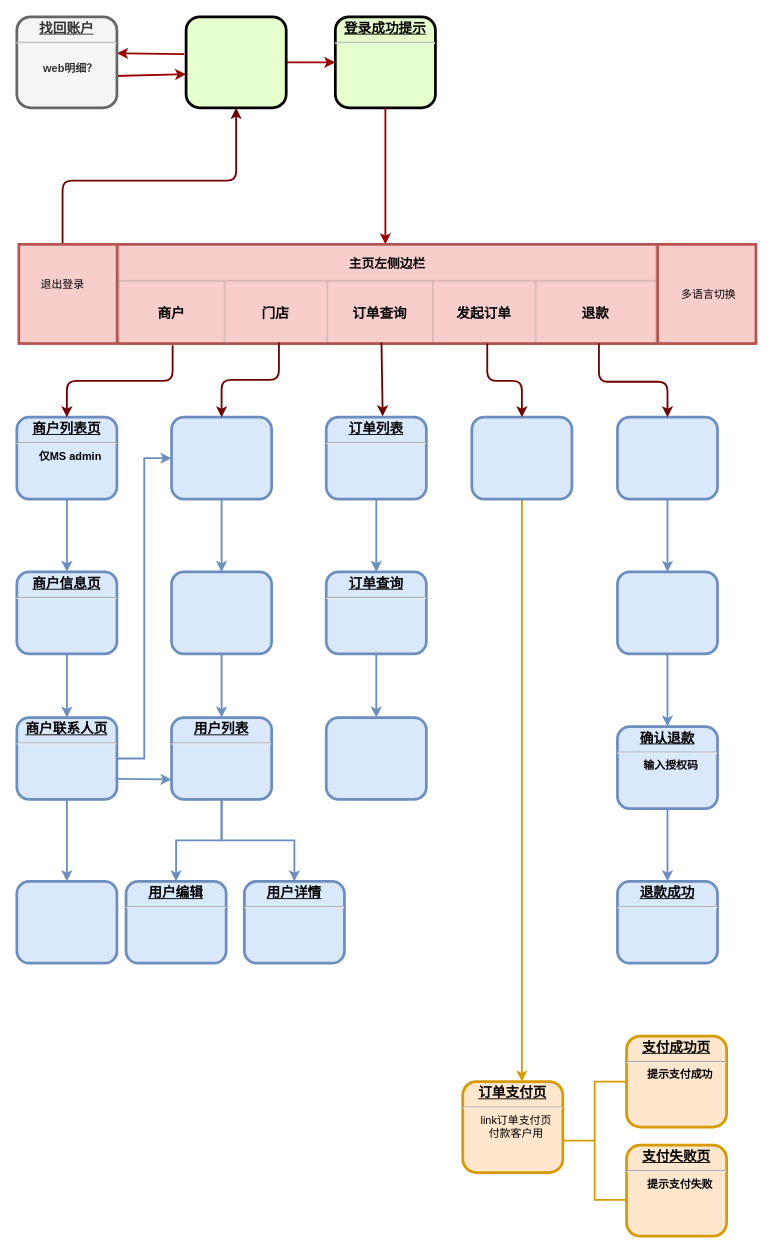
The diagram is 774 pixels wide and 1253 high, and some of its shapes have lost their labels. Each missing label, with the centre of its shape:
"创建新订单" goes at (521,457).
"发起退款 输入订单号查询" goes at (667,457).
"新增用户" goes at (66,922).
"登录页 账号 密码" goes at (235,62).
"订单详情" goes at (375,758).
"订单详情 确认退款 订单信息" goes at (667,612).
"门店信息 查看门店 信息弹窗" goes at (221,612).
"门店列表页" goes at (221,457).
